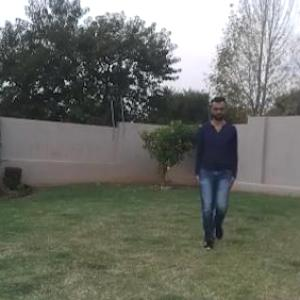follow: (193, 103, 237, 243)
